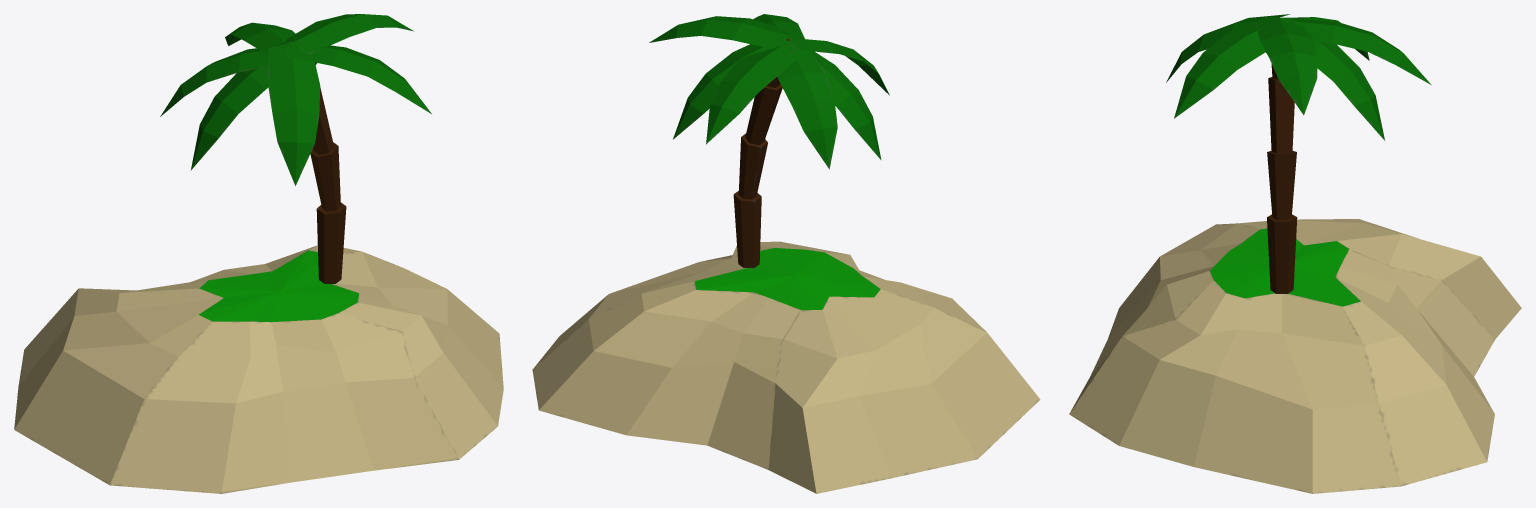
The model's file is island1.gltf.
3 views of the same model, side by side, from view 1: azimuth 30°, elevation 25°; view 2: azimuth 150°, elevation 25°; view 3: azimuth 270°, elevation 25° (orthographic). The views are drawn at different scales.
Parts seen in each view (by area): view 1: Cylinder; view 2: Cylinder; view 3: Cylinder.
Part boxes in pixels (x1,y1,x2,y2): Cylinder: [14, 14, 503, 493]; Cylinder: [532, 14, 1040, 493]; Cylinder: [1069, 14, 1521, 493].
Size of the model in its own units: 14.2 by 10.67 by 11.79.
1 material, 1 textured.
